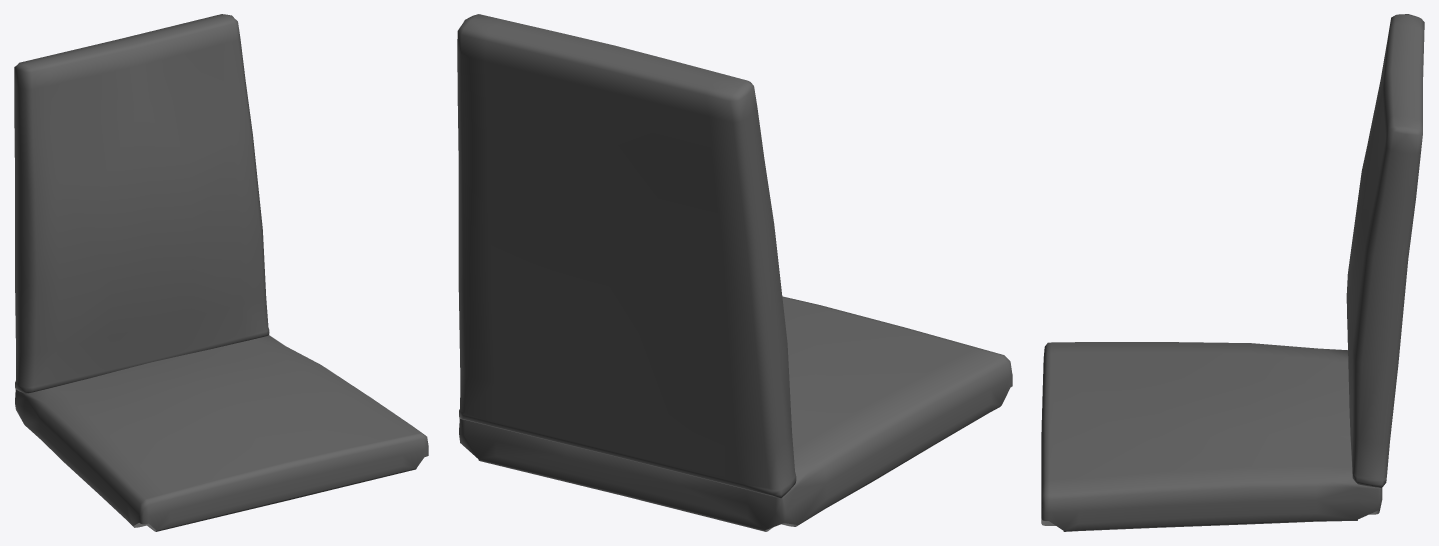
Rendered from RoboTHOR_chair_extendable_robothor_chair_extendable_0.obj.
The picture shows the model from 3 angles, left to right: view 1: azimuth 30°, elevation 25°; view 2: azimuth 150°, elevation 25°; view 3: azimuth 270°, elevation 25°; orthographic projection. The views are drawn at different scales.
Bounding box in the file's own units: 0.485 × 0.5537 × 0.499.
Materials: 1 (1 with a texture image).
